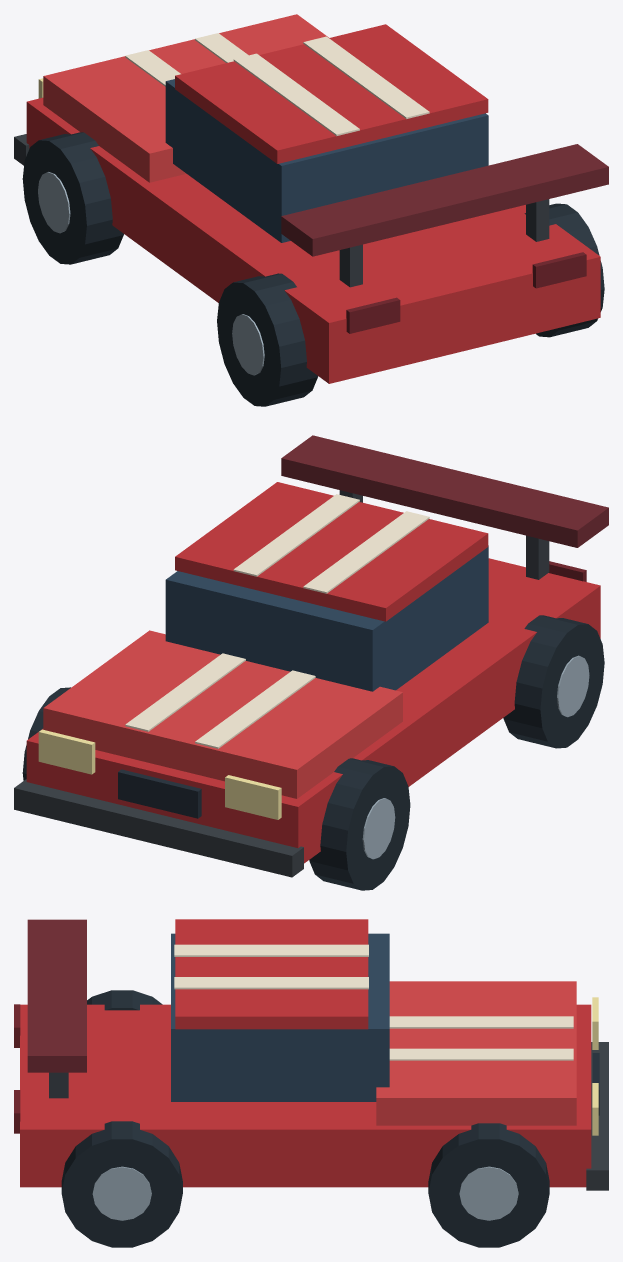
Rendered from red-race-car.glb.
3 views of the same model, one above another, from view 1: azimuth 30°, elevation 25°; view 2: azimuth 150°, elevation 25°; view 3: azimuth 270°, elevation 25° (orthographic). The views are drawn at different scales.
Parts seen in each view (by area): view 1: Chassis, Roof, Glass cabin, Rubber tire (×3), Rear spoiler, Hood, Roof racing stripe (×2), Wheel hub (×2), Brake light (×2), Spoiler support (×2), Hood racing stripe (×2); view 2: Hood, Chassis, Glass cabin, Roof, Rubber tire (×2), Rear spoiler, Front bumper, Roof racing stripe (×2), Hood racing stripe (×2), Headlight (×2), Wheel hub (×2), Air intake (+1 smaller); view 3: Chassis, Hood, Rubber tire (×3), Glass cabin, Roof, Rear spoiler, Roof racing stripe (×2), Wheel hub (×2), Hood racing stripe (×2), Front bumper, Spoiler support.
Boxes of the visible parts, box(x1,y1,x2,y2) form: Chassis: box(26, 97, 600, 383); Roof: box(175, 24, 488, 163); Glass cabin: box(165, 79, 488, 242); Rubber tire (×3): box(22, 132, 604, 406); Rear spoiler: box(281, 144, 608, 256); Hood: box(43, 14, 328, 182); Roof racing stripe (×2): box(233, 36, 429, 136); Wheel hub (×2): box(38, 172, 264, 375); Brake light (×2): box(346, 252, 586, 333); Spoiler support (×2): box(339, 199, 549, 287); Hood racing stripe (×2): box(125, 33, 248, 86); Hood: box(43, 630, 402, 798); Chassis: box(26, 558, 600, 863); Glass cabin: box(165, 545, 488, 691); Roof: box(175, 482, 488, 621); Rubber tire (×2): box(309, 615, 604, 890); Rear spoiler: box(281, 435, 608, 547); Front bumper: box(14, 779, 303, 877); Roof racing stripe (×2): box(233, 494, 429, 593); Hood racing stripe (×2): box(125, 653, 315, 748); Headlight (×2): box(38, 729, 281, 819); Wheel hub (×2): box(362, 655, 589, 859); Air intake: box(118, 769, 201, 818); Chassis: box(20, 1004, 591, 1187); Hood: box(376, 981, 576, 1125); Rubber tire (×3): box(61, 990, 549, 1247); Glass cabin: box(171, 933, 389, 1101); Roof: box(175, 919, 368, 1029); Rear spoiler: box(27, 919, 86, 1072); Roof racing stripe (×2): box(174, 944, 368, 989); Wheel hub (×2): box(92, 1166, 518, 1220); Hood racing stripe (×2): box(389, 1016, 573, 1060); Front bumper: box(586, 1042, 608, 1190); Spoiler support: box(49, 1072, 68, 1098).
Size of the model in its own units: 2.52 by 1.62 by 4.22.
